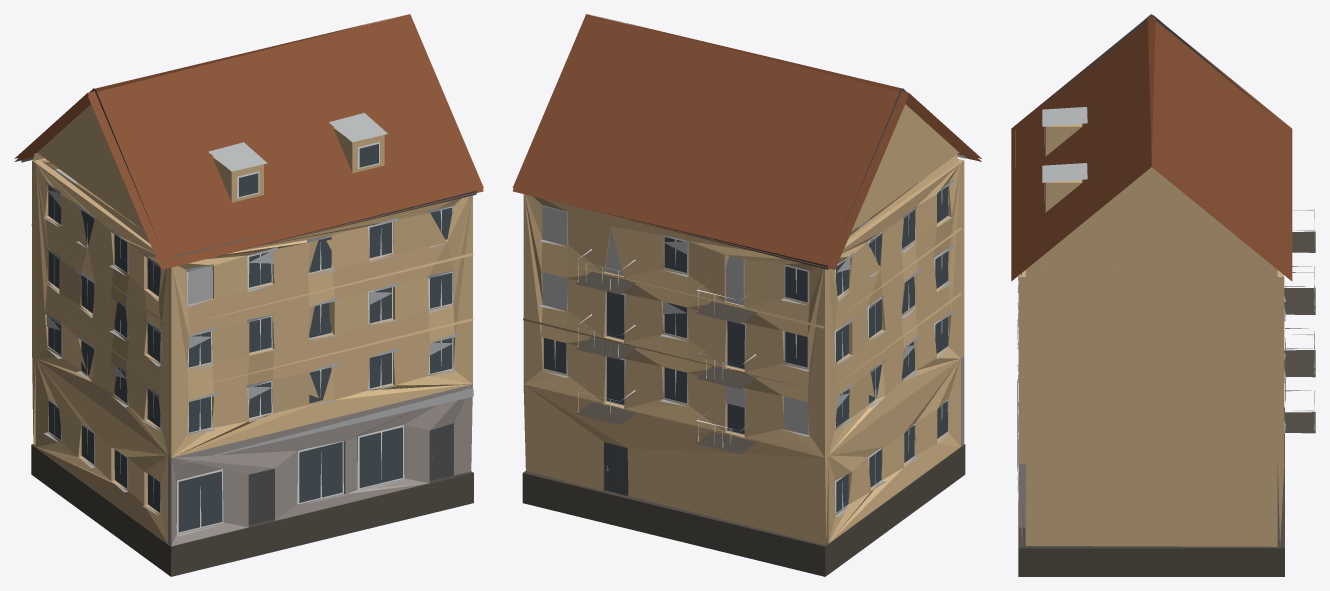
File: block-row-4-end-w-lod1.glb
3 renders of one model, left to right at view 1: azimuth 30°, elevation 25°; view 2: azimuth 150°, elevation 25°; view 3: azimuth 270°, elevation 25°, orthographic. The views are drawn at different scales.
Parts seen in each view (by area): view 1: block-row-4-end-w-plaster0.001; view 2: block-row-4-end-w-plaster0.001; view 3: block-row-4-end-w-plaster0.001.
Part boxes in pixels (box(x1,y1,x2,y2)): block-row-4-end-w-plaster0.001: box(14, 14, 483, 576); block-row-4-end-w-plaster0.001: box(512, 14, 981, 576); block-row-4-end-w-plaster0.001: box(1011, 14, 1315, 576).
Size of the model in its own units: 16.05 by 20.85 by 13.77.
